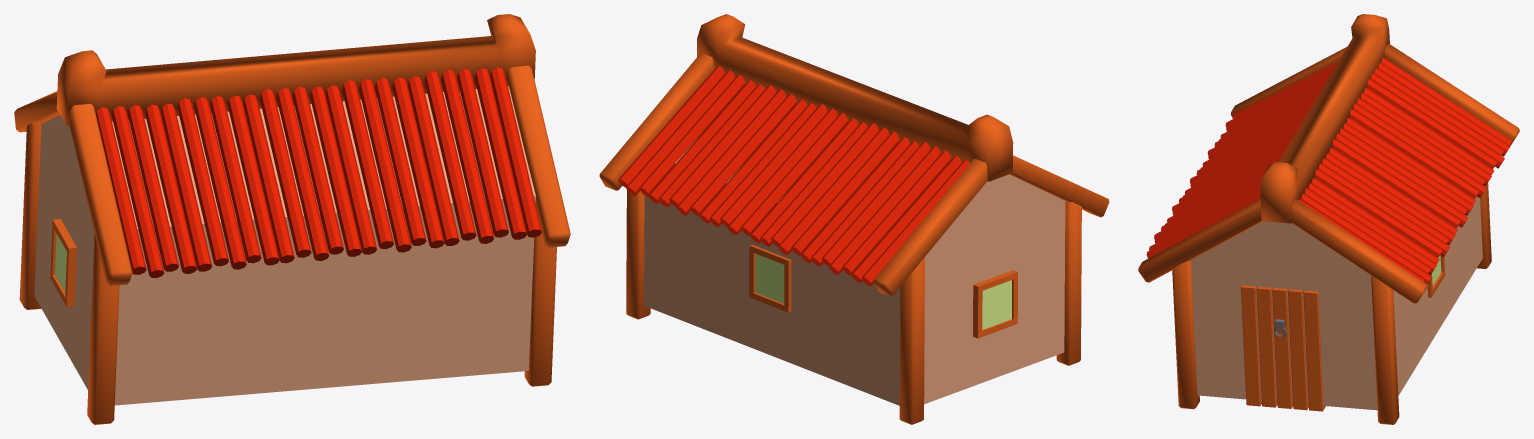
File: house.glb
3 renders of one model, left to right at view 1: azimuth 30°, elevation 25°; view 2: azimuth 150°, elevation 25°; view 3: azimuth 270°, elevation 25°, orthographic. The views are drawn at different scales.
Parts seen in each view (by area): view 1: Cube.066, Cylinder.044, Cube.067, Cube.068, Cube.073; view 2: Cube.066, Cylinder.043, Cube.067, Cube.068, Cube.073, Cube.071, Cube.072, Cube.074; view 3: Cube.066, Cylinder.043, Cube.067, Cylinder.044, Cube.069, Cube.068.
Boxes of the visible parts, x1=… form: Cube.066: x1=34, y1=86, x2=535, y2=405; Cylinder.044: x1=96, y1=67, x2=541, y2=278; Cube.067: x1=14, y1=65, x2=570, y2=424; Cube.068: x1=56, y1=14, x2=535, y2=125; Cube.073: x1=50, y1=219, x2=77, y2=306; Cube.066: x1=644, y1=135, x2=1065, y2=405; Cylinder.043: x1=618, y1=66, x2=969, y2=286; Cube.067: x1=599, y1=53, x2=1109, y2=424; Cube.068: x1=697, y1=14, x2=1013, y2=181; Cube.073: x1=973, y1=270, x2=1017, y2=338; Cube.071: x1=749, y1=244, x2=791, y2=312; Cube.072: x1=755, y1=254, x2=784, y2=303; Cube.074: x1=982, y1=280, x2=1011, y2=329; Cube.066: x1=1191, y1=196, x2=1482, y2=410; Cylinder.043: x1=1298, y1=57, x2=1512, y2=284; Cube.067: x1=1138, y1=43, x2=1519, y2=424; Cylinder.044: x1=1146, y1=61, x2=1338, y2=258; Cube.069: x1=1241, y1=285, x2=1325, y2=411; Cube.068: x1=1260, y1=14, x2=1389, y2=223.
Size of the model in its own units: 5.89 by 3.83 by 5.1.
